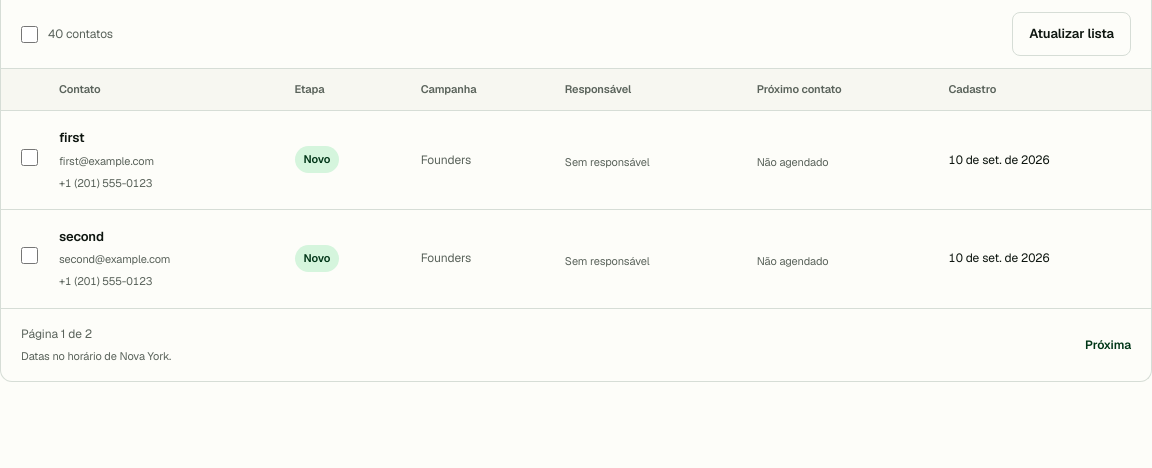
Test: Marketing lead selection › bulk updates only visible selected records, not all filtered pages
Click the checkbox named "Selecionar todos os leads desta página": (30, 34) [21,26,38,42]
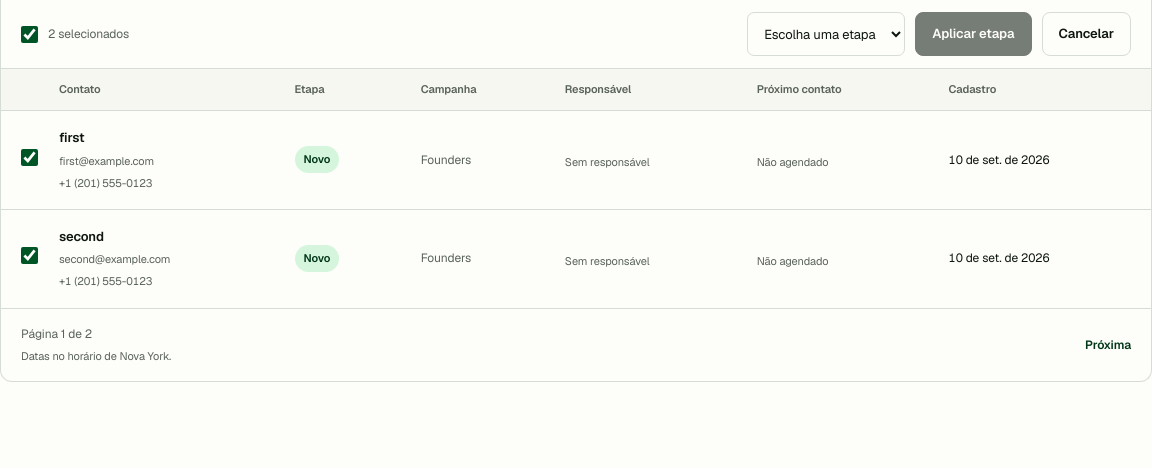
Select "Em contato" in the dropdown named "Nova etapa dos selecionados": (826, 34) [747,12,905,56]
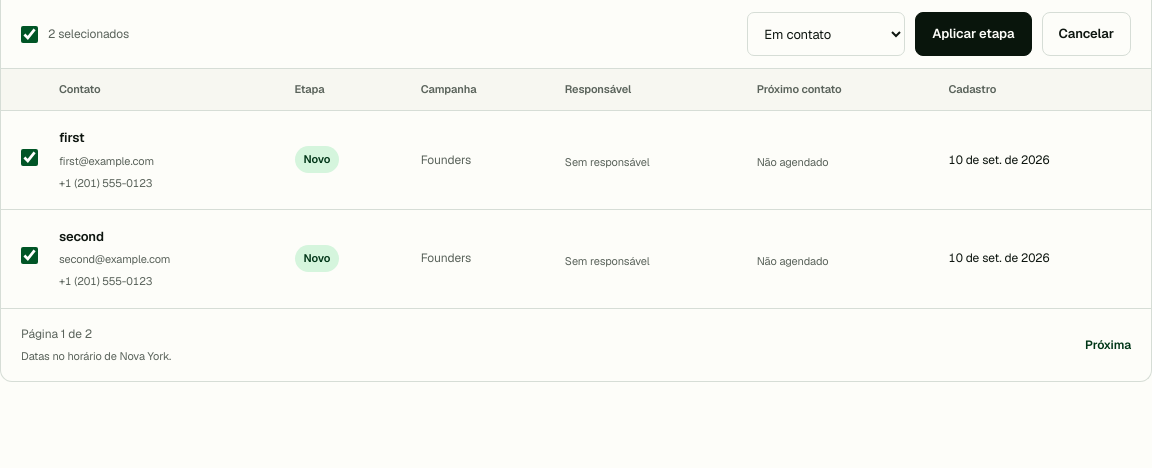
Click the button "Aplicar etapa": (973, 34) [915,12,1032,56]
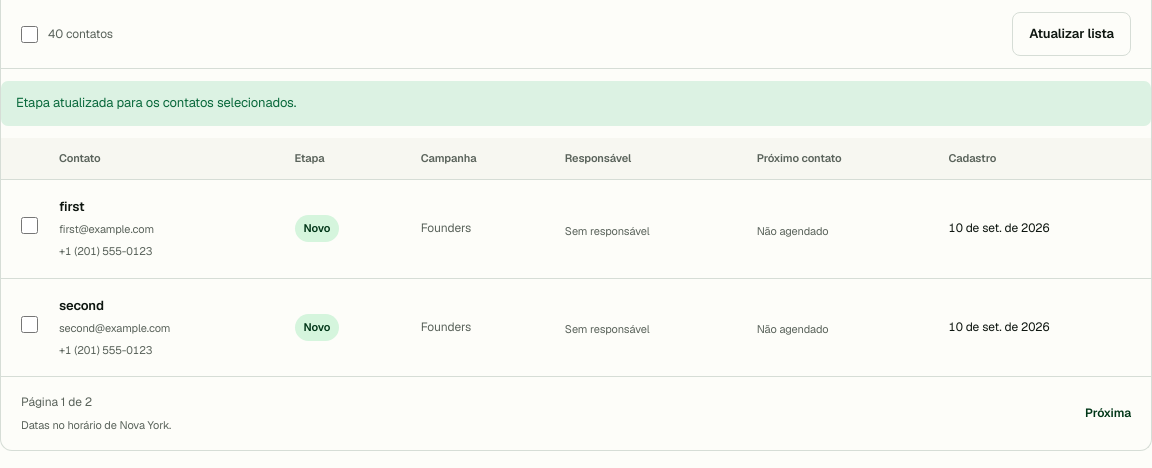
Expected: the checkbox named "Selecionar todos os leads desta página" is not checked, [21,26,38,42]
Expected: the message "Etapa atualizada para os contatos selecionados." is shown, [1,81,1151,126]
